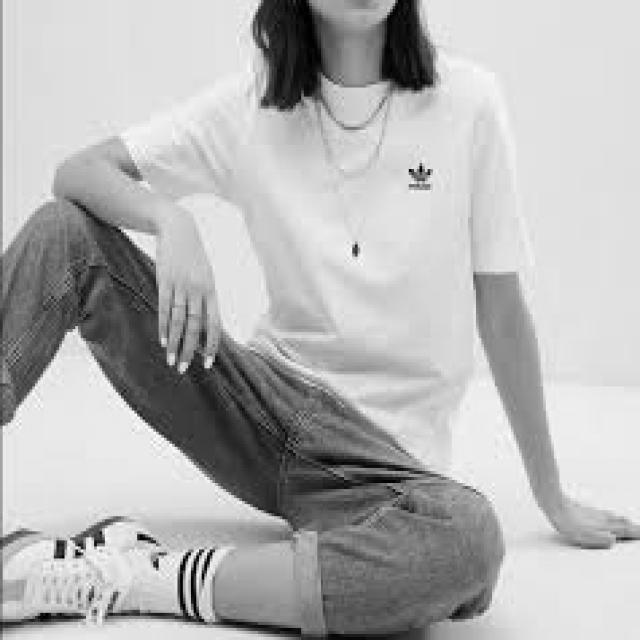Adidas: (398, 154, 441, 193)
